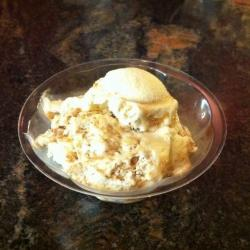icecream: (36, 73, 183, 184)
